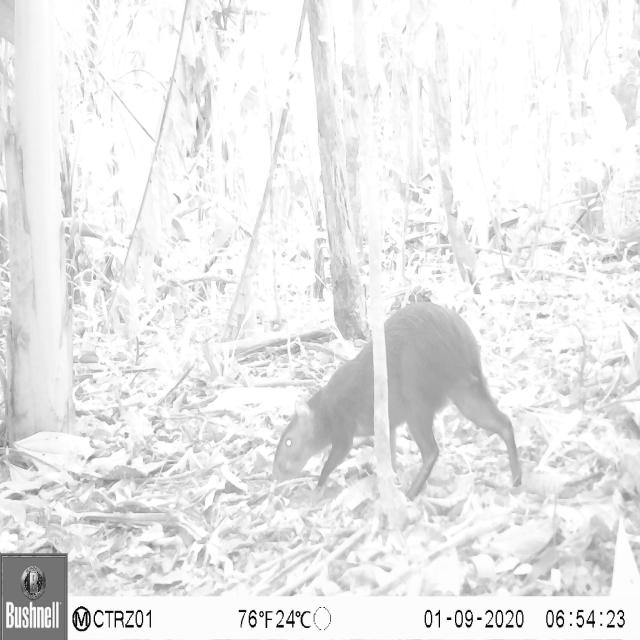Black Agouti: (264, 290, 534, 517)
